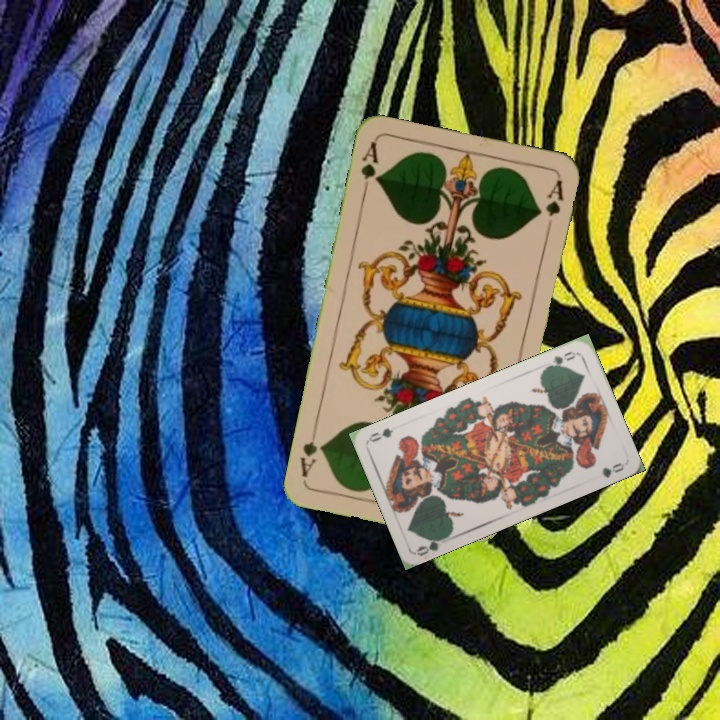GA: (357, 138, 382, 197)
GO: (413, 532, 451, 559), (541, 347, 579, 372)
